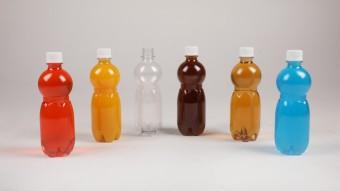bottle: (230, 46, 262, 142), (89, 48, 121, 142), (176, 46, 207, 136), (132, 48, 163, 133), (292, 48, 294, 156), (23, 52, 24, 158)
